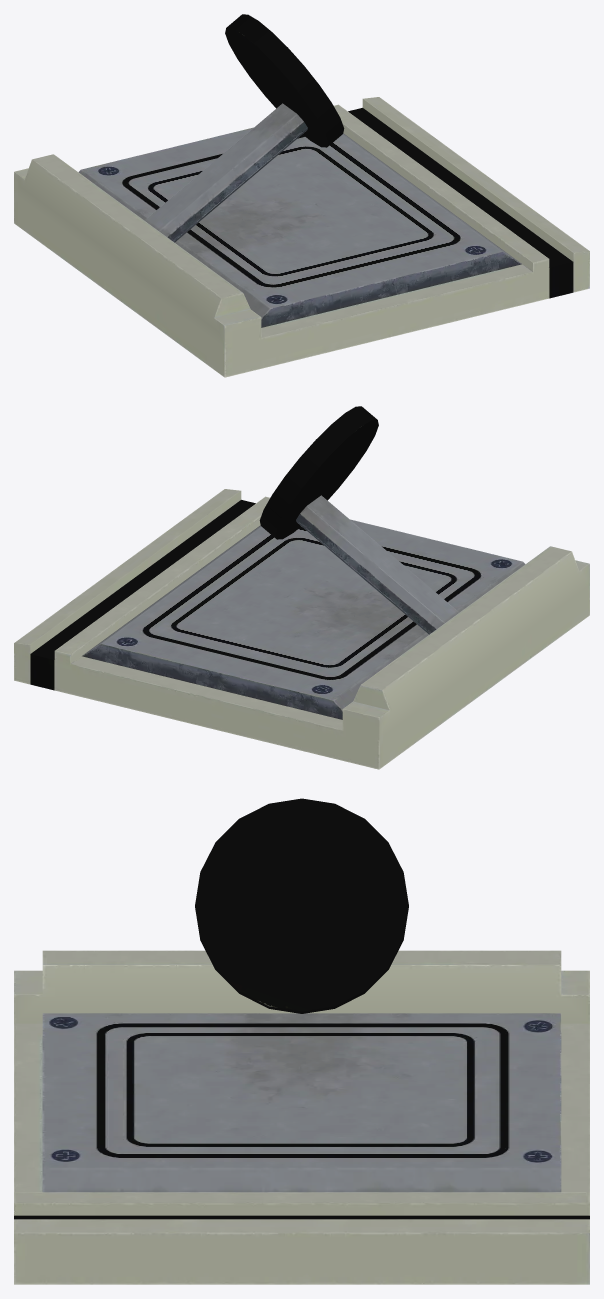
3 renders of one model, top to bottom at view 1: azimuth 30°, elevation 25°; view 2: azimuth 150°, elevation 25°; view 3: azimuth 270°, elevation 25°, orthographic. The views are drawn at different scales.
Parts seen in each view (by area): view 1: M_CD; view 2: M_CD; view 3: M_CD.
Part boxes in pixels (x1,y1,x2,y2): M_CD: (14, 14, 589, 377); M_CD: (14, 406, 589, 769); M_CD: (14, 798, 589, 1284).
Bounding box in the file's own units: 0.01 × 0.00643 × 0.01.
1 material, 1 textured.
